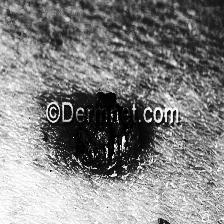Benign Marking or Mole: (76, 90, 140, 168)
